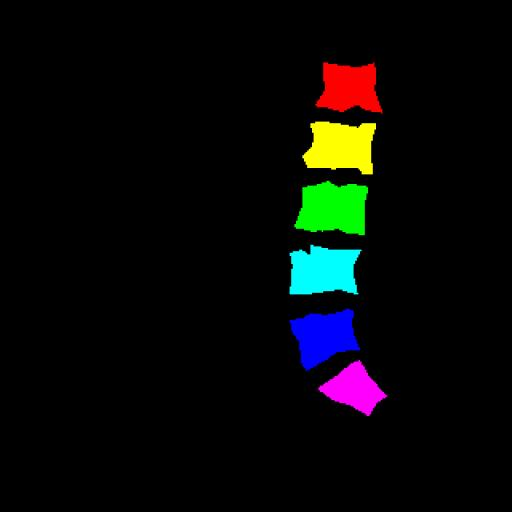L1: (318, 63, 382, 112)
L2: (303, 123, 376, 174)
L3: (296, 181, 366, 234)
L4: (290, 245, 360, 294)
L5: (290, 310, 360, 370)
S1: (318, 360, 387, 416)
